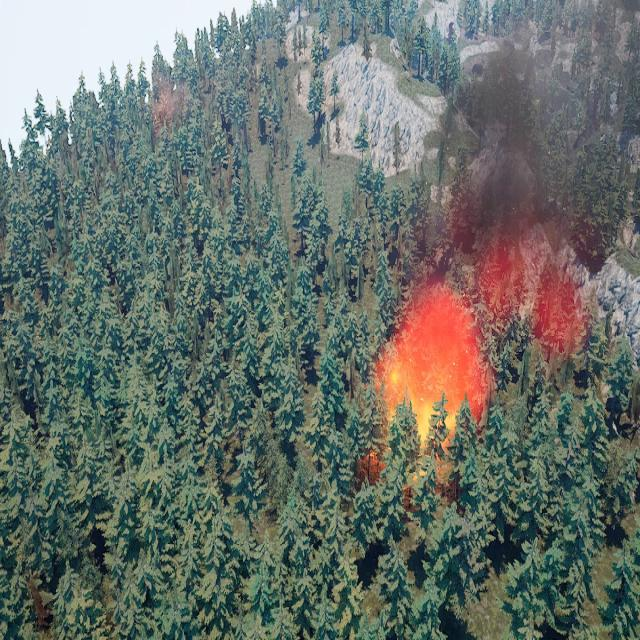fire: (370, 332, 465, 467)
smoke: (392, 0, 640, 420), (153, 78, 177, 137)
